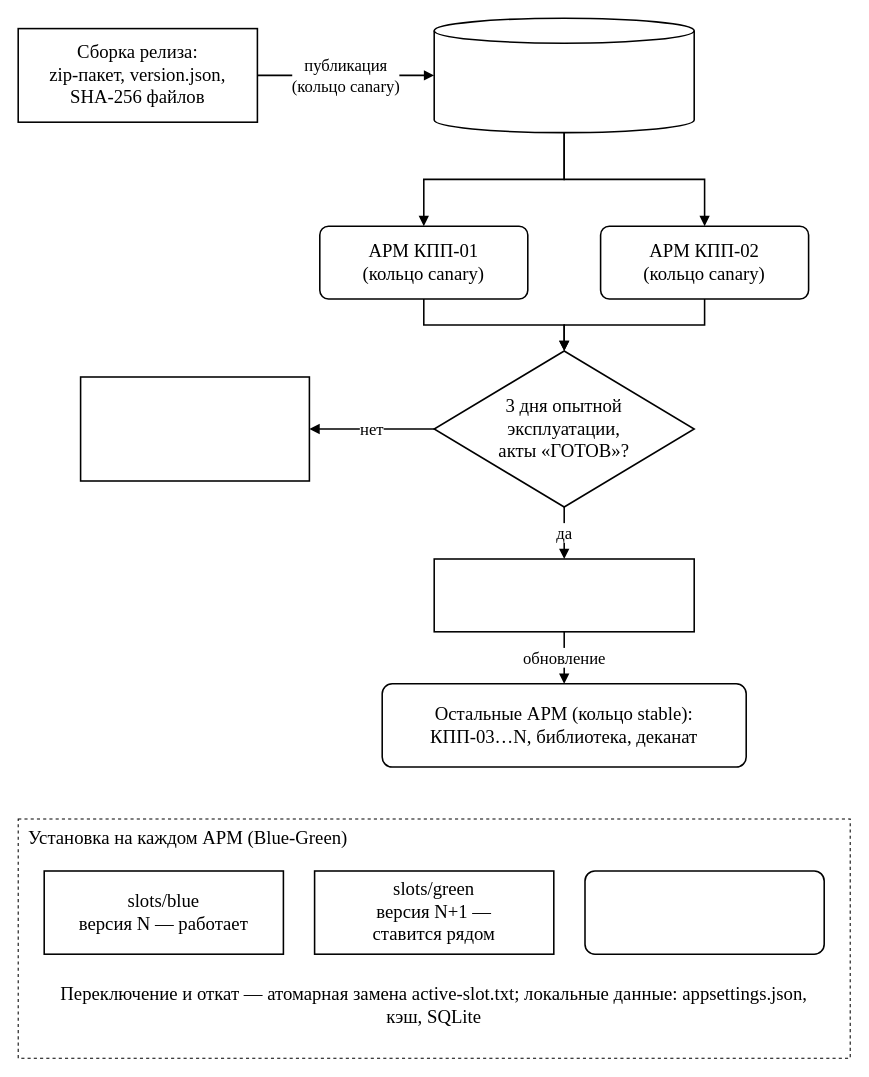
Some shapes in this 869 by 1077 pixel diagram are drawn without their labels. The centre of each missing label's shape, as x and y in pixels:
active-slot.txt — какой слот запускается: the point at 704,912
В манифест добавляется кольцо stable: the point at 564,595
Релиз отозван [YANKED], исправление: the point at 194,428
Сервер обновлений manifest.json (версия, кольца, SHA-256): the point at 564,75
